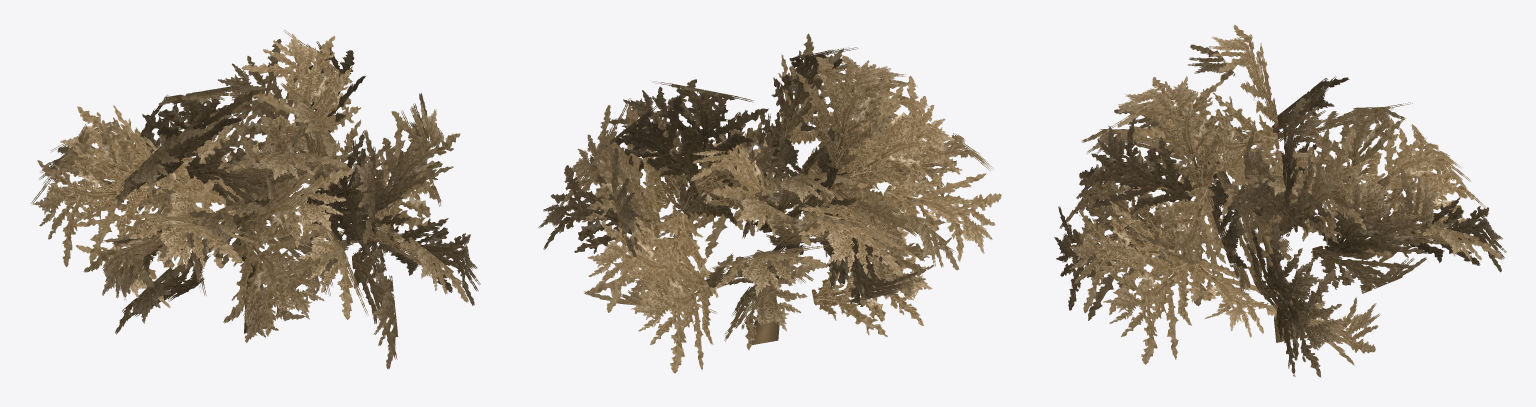
The model's file is DG_Bush_1.fbx.
The picture shows the model from 3 angles, left to right: view 1: azimuth 30°, elevation 25°; view 2: azimuth 150°, elevation 25°; view 3: azimuth 270°, elevation 25°; orthographic projection. The views are drawn at different scales.
Visible parts, largest first — view 1: DG_Bush_1; view 2: DG_Bush_1; view 3: DG_Bush_1.
Part boxes in pixels (x1,y1,x2,y2): DG_Bush_1: (31,30,480,368); DG_Bush_1: (538,33,1001,373); DG_Bush_1: (1054,24,1506,377).
Size of the model in its own units: 1645 by 1057 by 1714.
